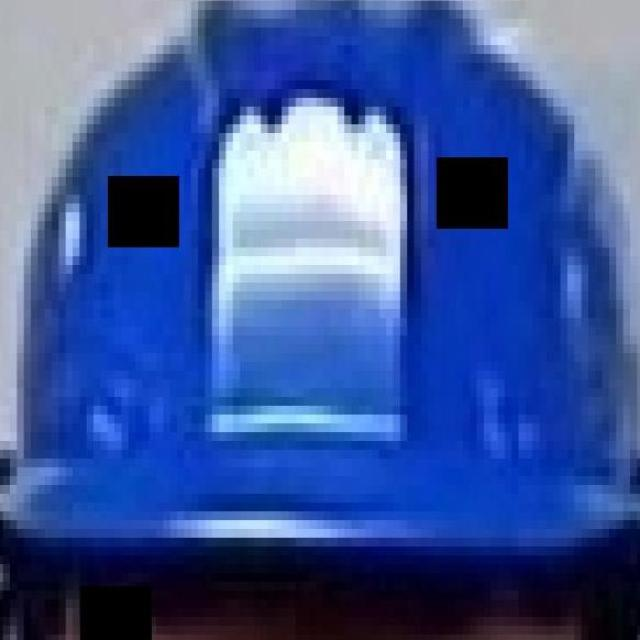blue helmet: (17, 29, 634, 544)
